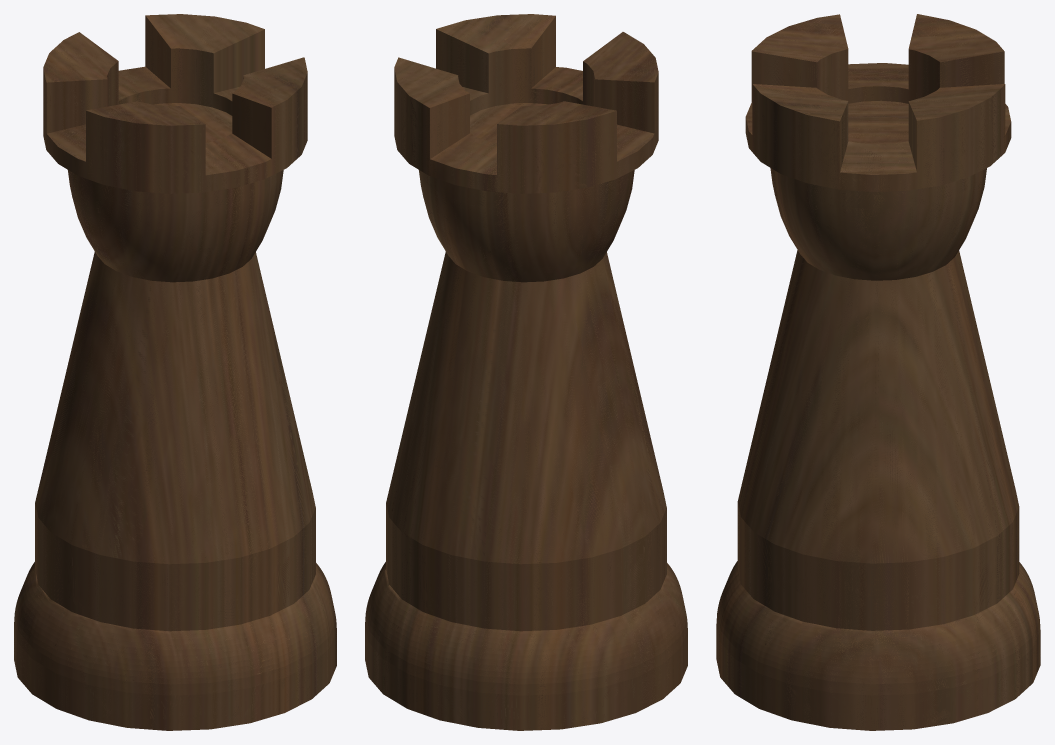
File: Tower Black.fbx
3 renders of one model, left to right at view 1: azimuth 30°, elevation 25°; view 2: azimuth 150°, elevation 25°; view 3: azimuth 270°, elevation 25°, orthographic.
Visible parts, largest first — view 1: Tower_Black1; view 2: Tower_Black1; view 3: Tower_Black1.
Part boxes in pixels (left/top/right/bottom): Tower_Black1: left=14, top=14, right=336, bottom=730; Tower_Black1: left=365, top=14, right=687, bottom=730; Tower_Black1: left=716, top=14, right=1040, bottom=730.
Size of the model in its own units: 0.0475 by 0.0962 by 0.0475.
